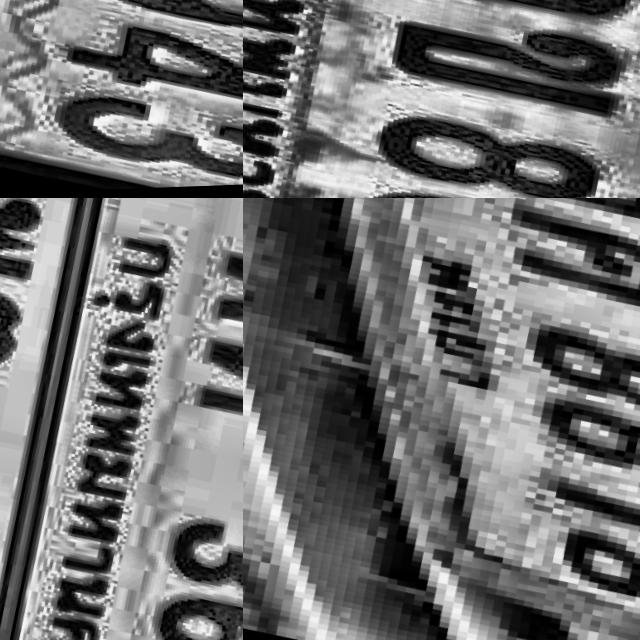license-plate: (243, 198, 640, 640), (0, 198, 243, 640), (243, 0, 640, 198), (0, 198, 121, 640), (0, 0, 243, 198)
